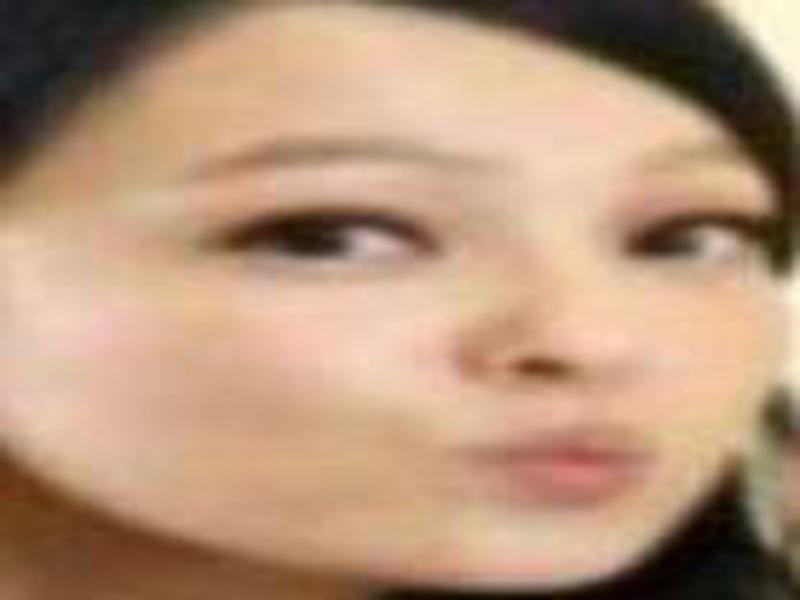without_mask: (2, 8, 785, 589)
